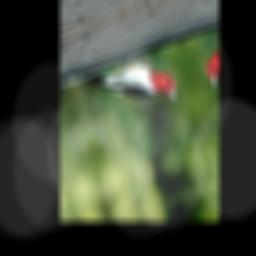Woodpecker: (76, 40, 180, 131)
